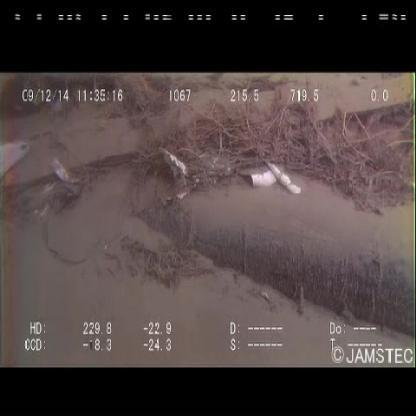Rác: (157, 142, 228, 202), (235, 152, 308, 204), (45, 152, 89, 212)
